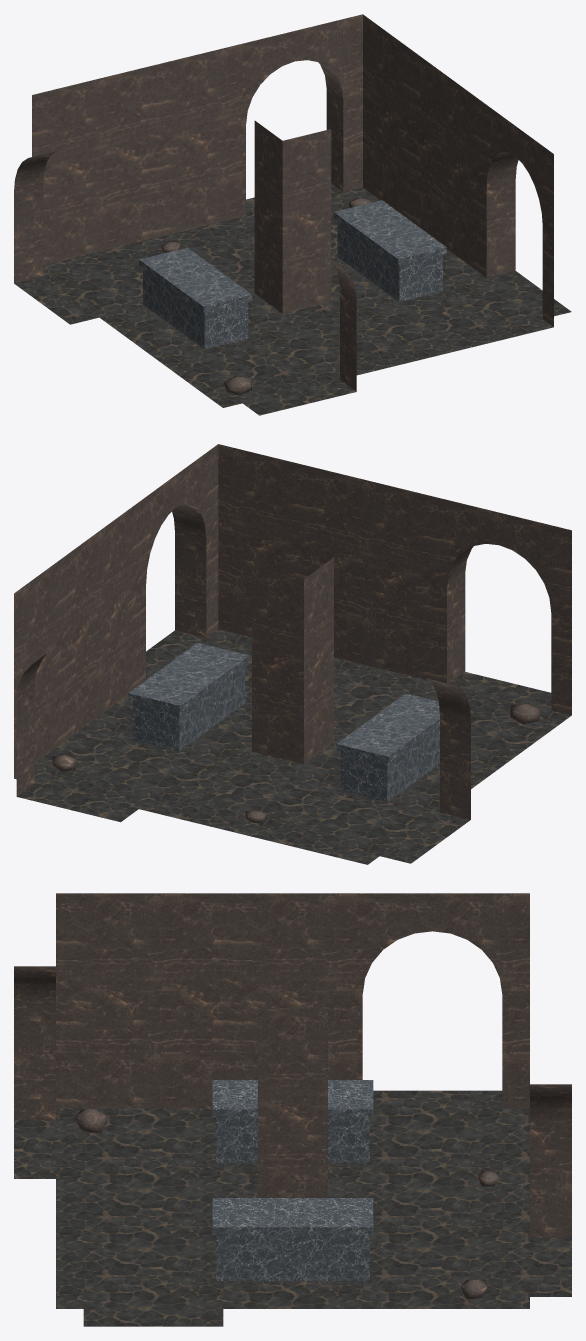
The model's file is room-crypt.12e752fe.gltf.
The picture shows the model from 3 angles, top to bottom: view 1: azimuth 30°, elevation 25°; view 2: azimuth 150°, elevation 25°; view 3: azimuth 270°, elevation 25°; orthographic projection. The views are drawn at different scales.
Parts seen in each view (by area): view 1: room-crypt-mesh; view 2: room-crypt-mesh; view 3: room-crypt-mesh.
Boxes of the visible parts, bbox=[...] form: room-crypt-mesh: bbox=[14, 14, 571, 415]; room-crypt-mesh: bbox=[14, 444, 571, 864]; room-crypt-mesh: bbox=[14, 893, 571, 1326].
Size of the model in its own units: 8 by 3.49 by 8.
Materials: 3 (3 with a texture image).
